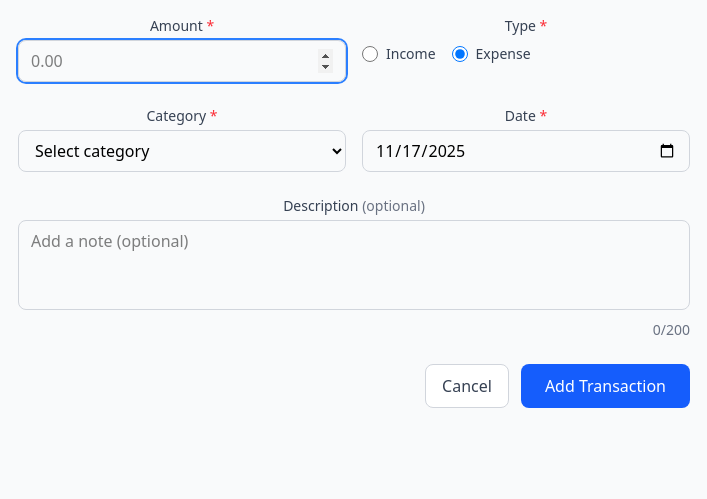
TransactionForm › Form Submission - Create Mode › should reset form after successful create
The width and height of the screenshot is (707, 499).
Note: Fill form
Type "100" into the number field labelled "Amount *". click: (182, 61)
box: x1=18 y1=40 x2=346 y2=82
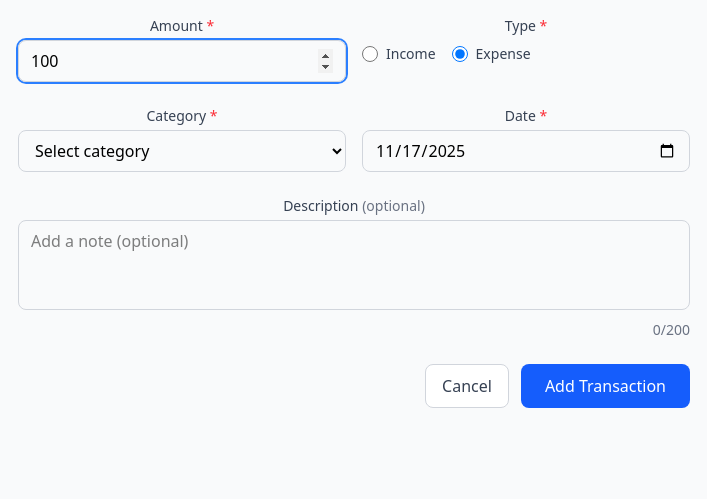
Select "Food/Groceries" in the dropdown labelled "Category *". click: (182, 151)
box: x1=18 y1=130 x2=346 y2=172
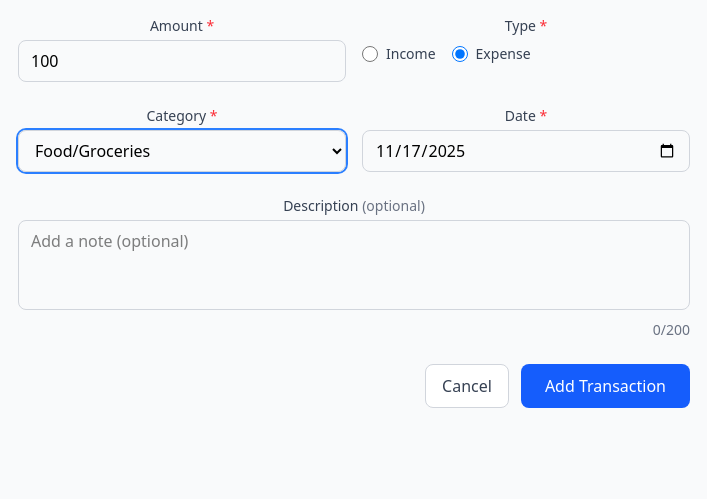
Click the button "Add Transaction". click: (605, 386)
box: x1=521 y1=364 x2=690 y2=408
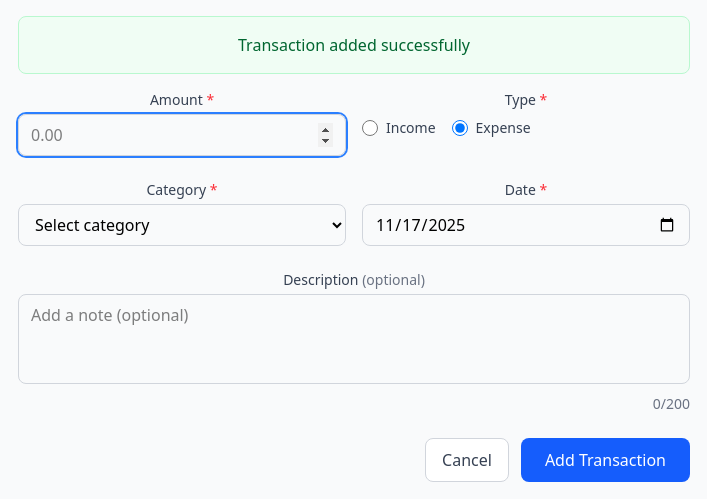
Result: the number field labelled "Amount *" is not empty at x1=18 y1=114 x2=346 y2=156
